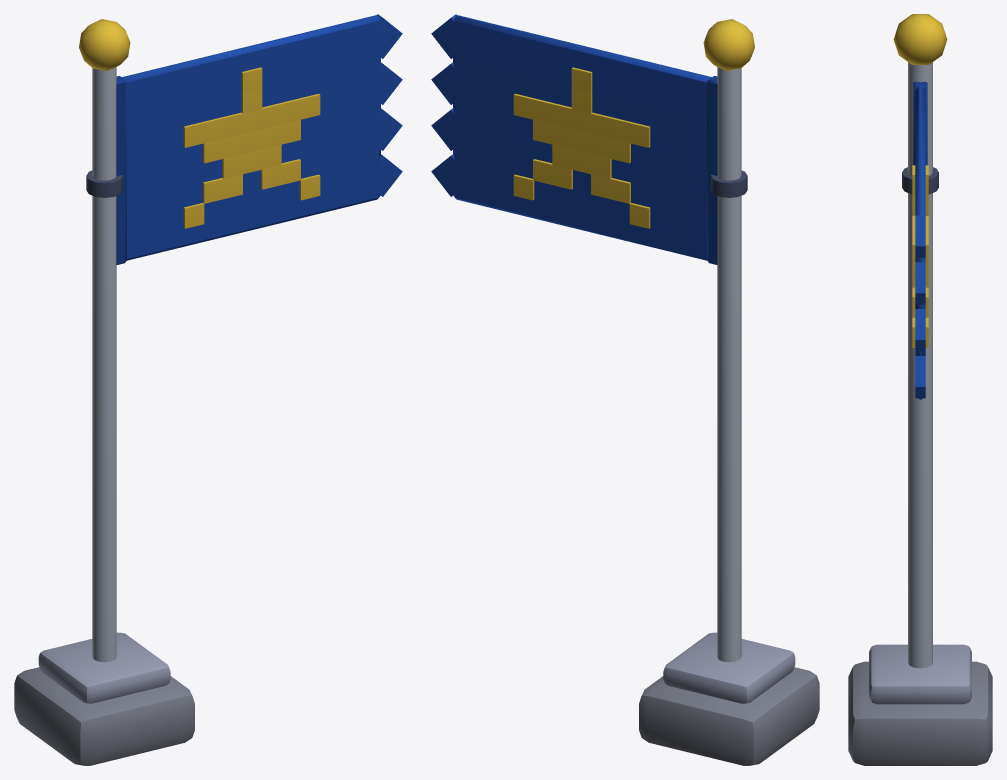
The model's file is lo_flag_saison.glb.
The picture shows the model from 3 angles, left to right: view 1: azimuth 30°, elevation 25°; view 2: azimuth 150°, elevation 25°; view 3: azimuth 270°, elevation 25°; orthographic projection.
Visible parts, largest first — view 1: sway_cloth, body; view 2: sway_cloth, body; view 3: body, sway_cloth.
Boxes of the visible parts, x1=… form: sway_cloth: x1=116, y1=14, x2=402, y2=264; body: x1=14, y1=19, x2=194, y2=765; sway_cloth: x1=431, y1=14, x2=717, y2=264; body: x1=639, y1=19, x2=819, y2=765; body: x1=848, y1=14, x2=992, y2=765; sway_cloth: x1=912, y1=81, x2=928, y2=399.
Bounding box in the file's own units: 2.03 × 3.88 × 0.7.
